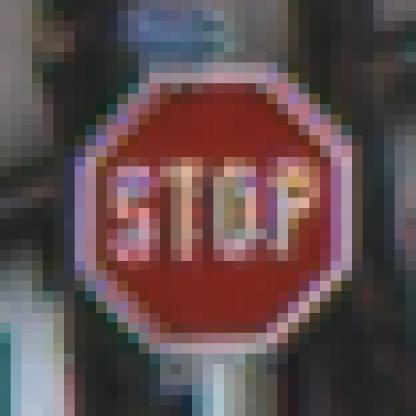stop: (61, 51, 363, 376)
